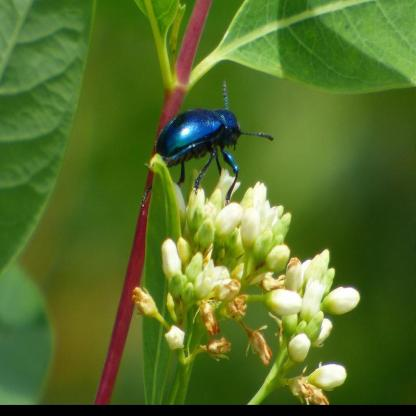beetle: (146, 86, 271, 206)
